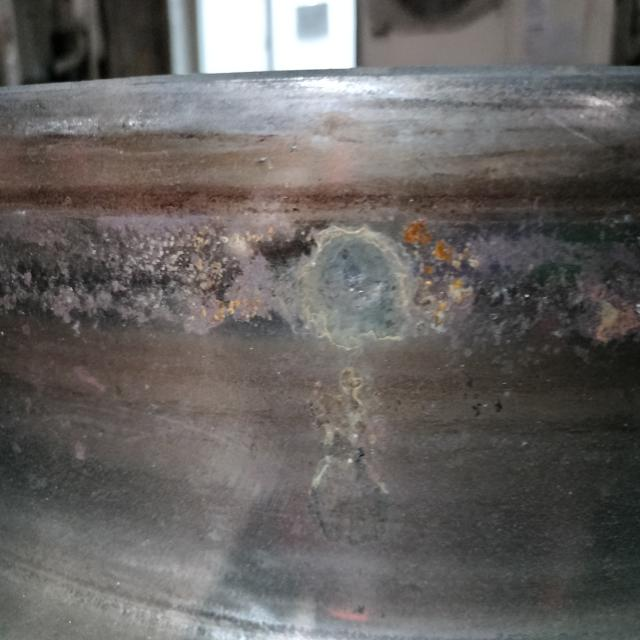flat: (4, 201, 640, 358)
